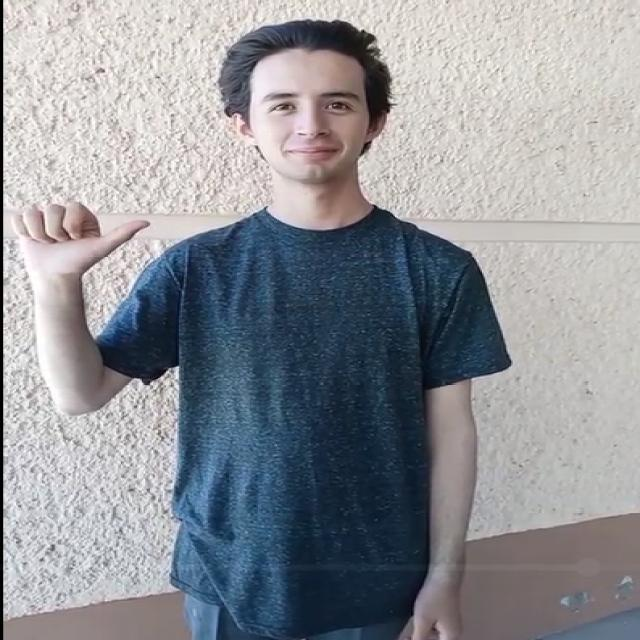A: (12, 190, 164, 280)
